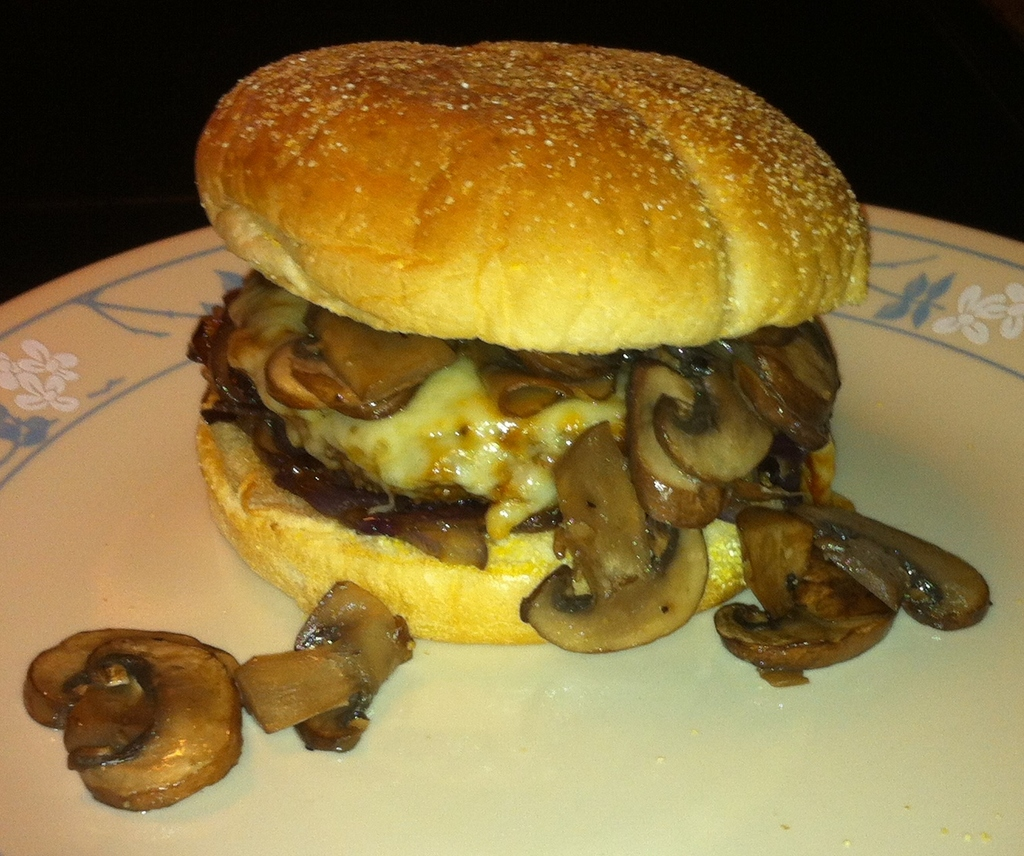Hamburger: (180, 43, 870, 655)
